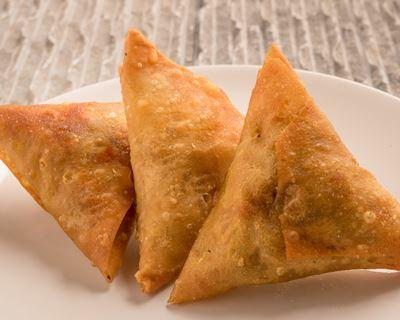Samosa: (167, 43, 400, 308), (119, 30, 247, 295), (0, 102, 131, 284)
